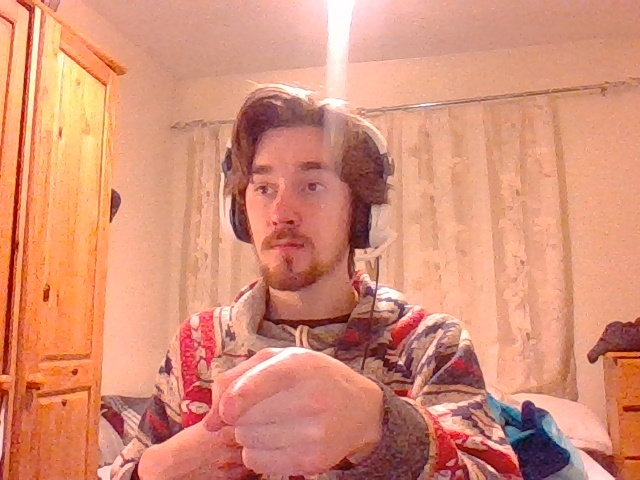you: (208, 346, 380, 460)
